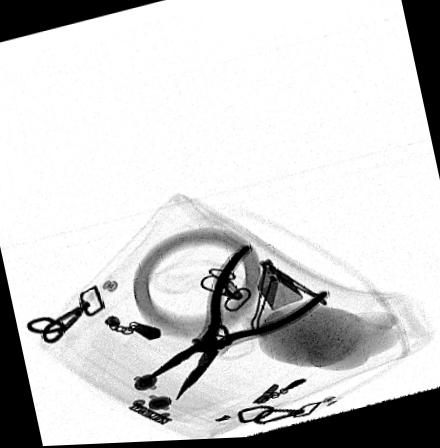Pliers: (145, 245, 330, 404)
